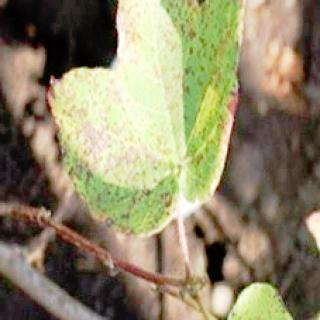leaf spot: (51, 68, 242, 242), (116, 3, 228, 65)
